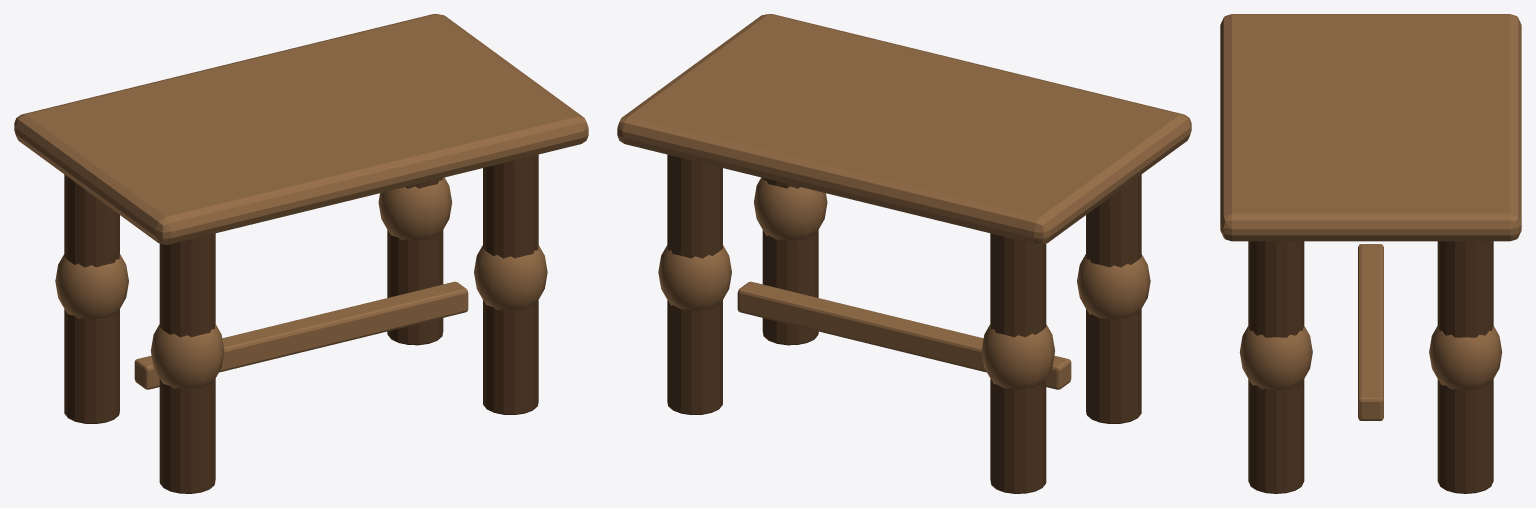
The model's file is SM_HH_Art_Table.fbx.
3 views of the same model, side by side, from view 1: azimuth 30°, elevation 25°; view 2: azimuth 150°, elevation 25°; view 3: azimuth 270°, elevation 25° (orthographic).
Parts seen in each view (by area): view 1: HH_Art_Table; view 2: HH_Art_Table; view 3: HH_Art_Table.
Part boxes in pixels (left/top/right/bottom): HH_Art_Table: left=14, top=14, right=588, bottom=493; HH_Art_Table: left=617, top=14, right=1191, bottom=493; HH_Art_Table: left=1220, top=14, right=1521, bottom=493.
Bounding box in the file's own units: 0.7 × 1.15 × 0.745.
